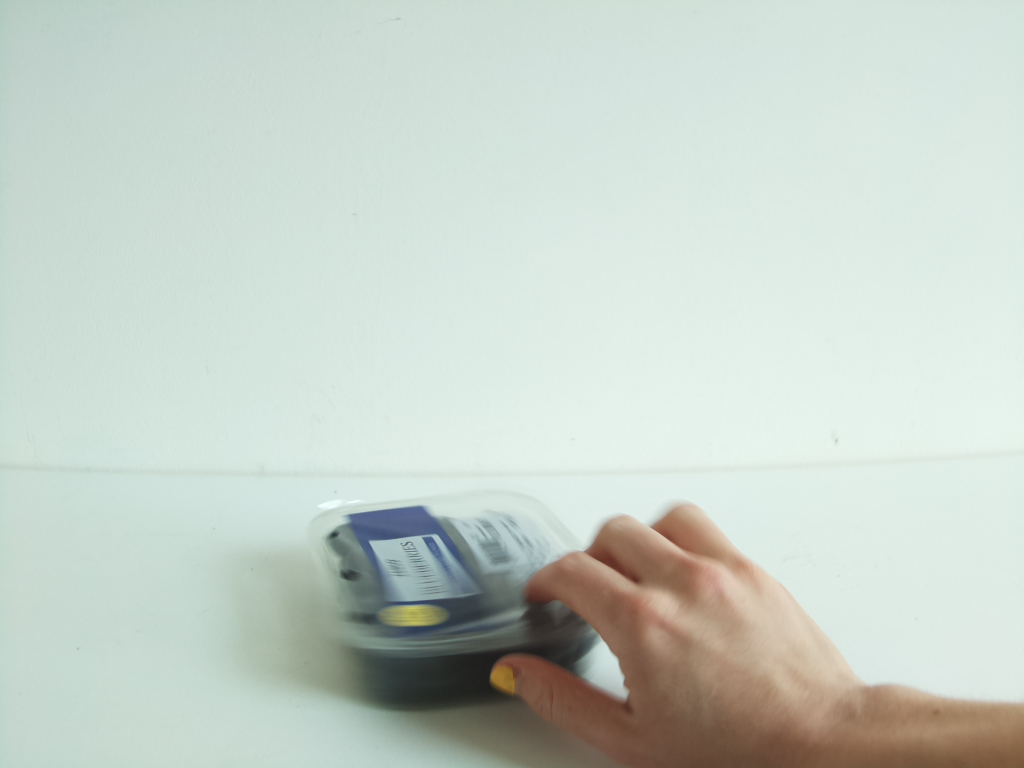soft-fruit: (298, 480, 608, 719)
